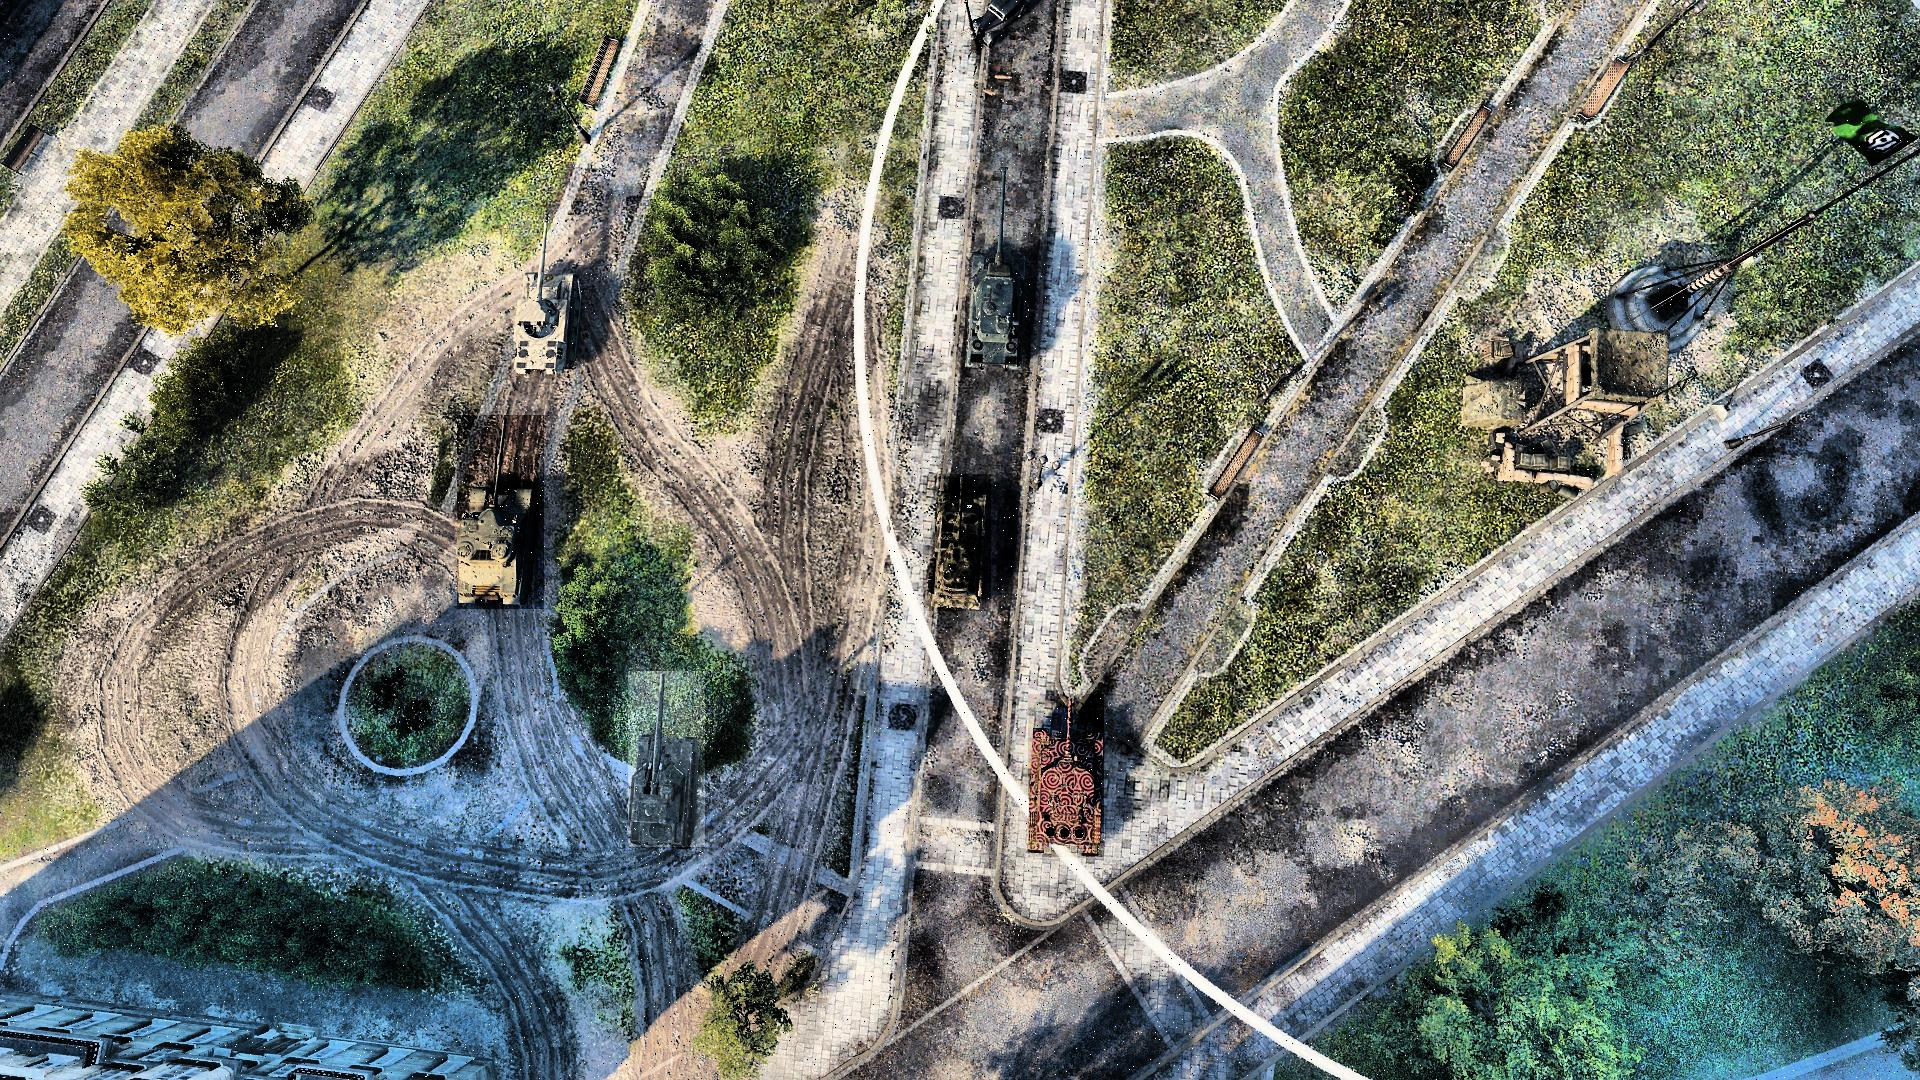military-vehicle: (458, 415, 545, 611), (629, 673, 705, 848), (967, 167, 1033, 368), (512, 212, 587, 377), (1029, 695, 1104, 857), (924, 475, 992, 612)
